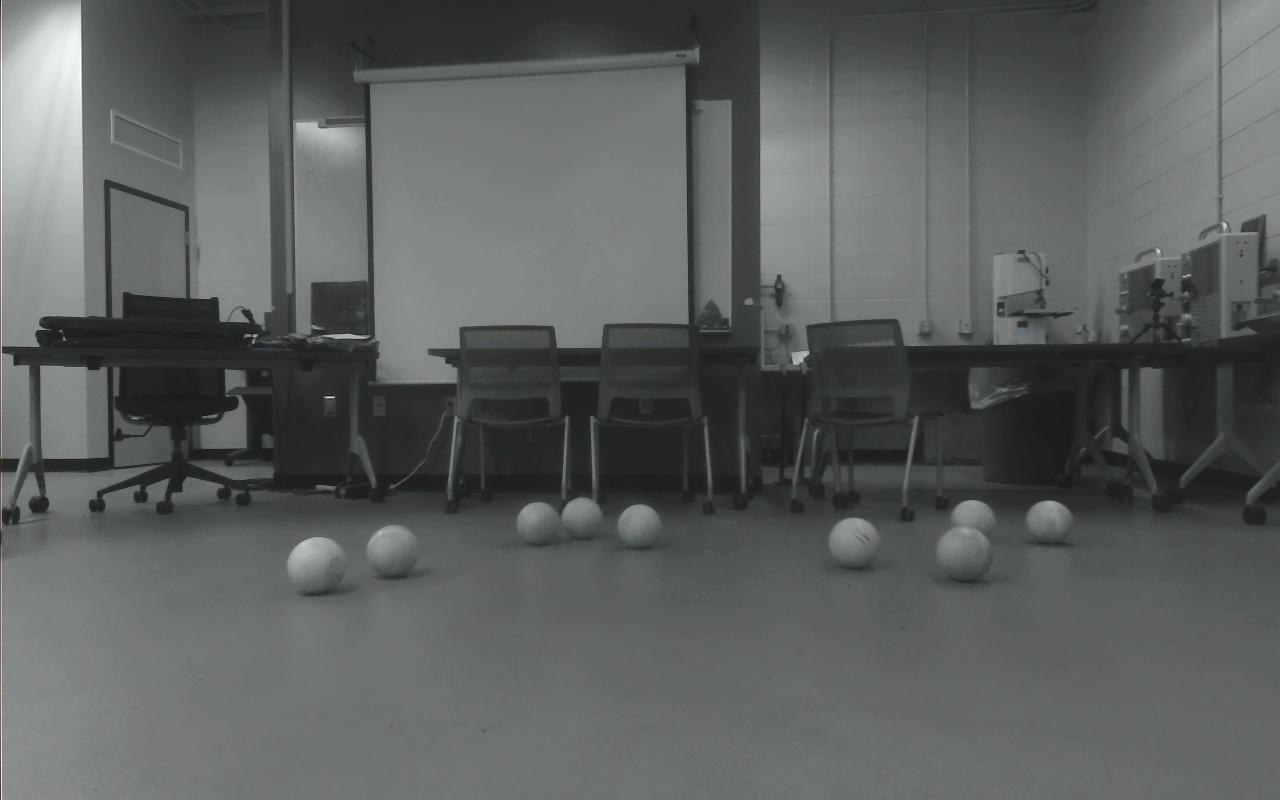Fuel: (287, 535, 347, 594), (937, 526, 995, 582), (366, 525, 419, 578), (829, 518, 881, 569), (1025, 500, 1074, 544), (617, 504, 662, 549), (517, 502, 562, 545), (950, 500, 997, 541), (562, 497, 603, 540)
